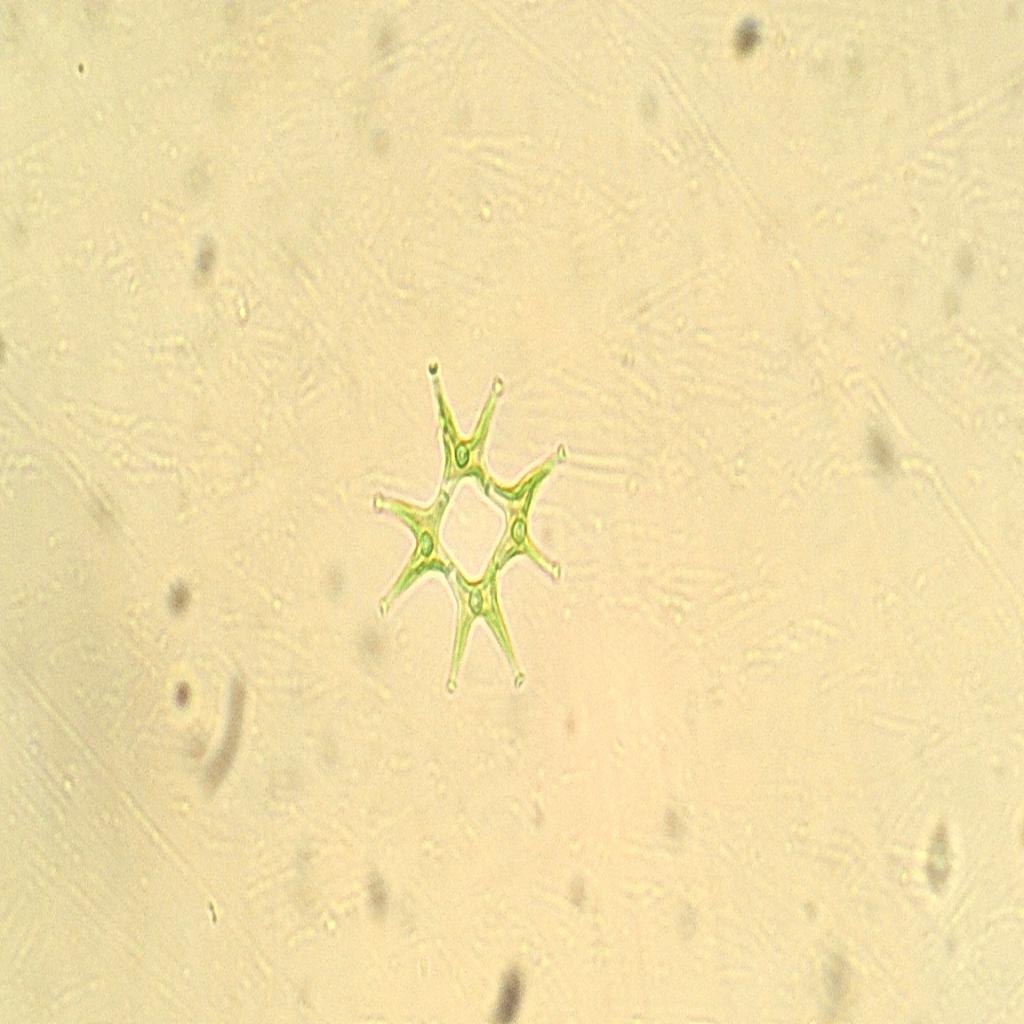Pediastrum_CO: (357, 342, 580, 720)
